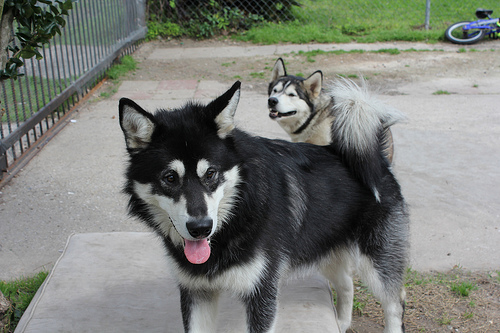dog: (112, 80, 415, 332), (266, 56, 391, 168)
